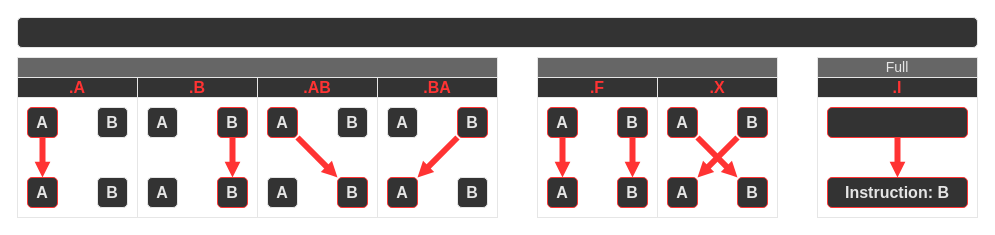
Some shapes in this 995 by 235 pixel diagram are drawn without their labels. Each missing label, with the centre of its shape:
"Double" belongs at [657,67].
"Instruction: A" belongs at [897,122].
"Modifier Types" belongs at [497,32].
"Single" belongs at [257,67].
